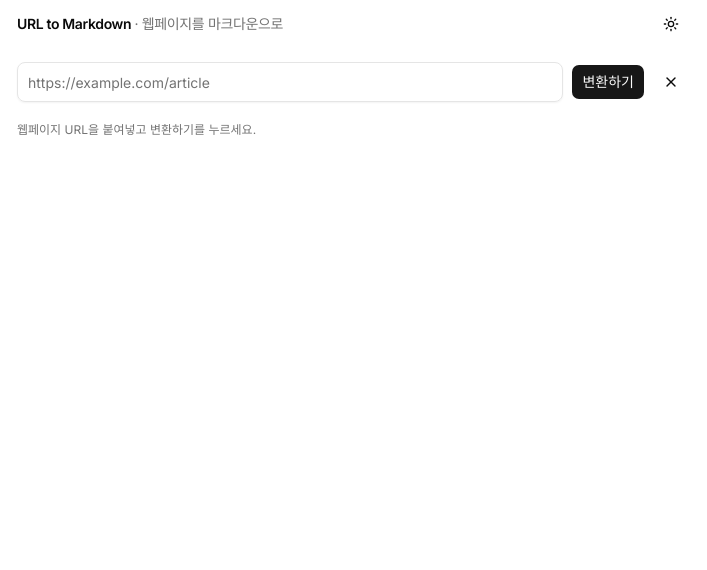
Test: URL을 변환하면 제목과 본문이 표시된다
In the field named "웹페이지 URL": (290, 82) [17, 62, 564, 102], type "https://buildnote.dev/2024/rethinking-our-cache-strategy"
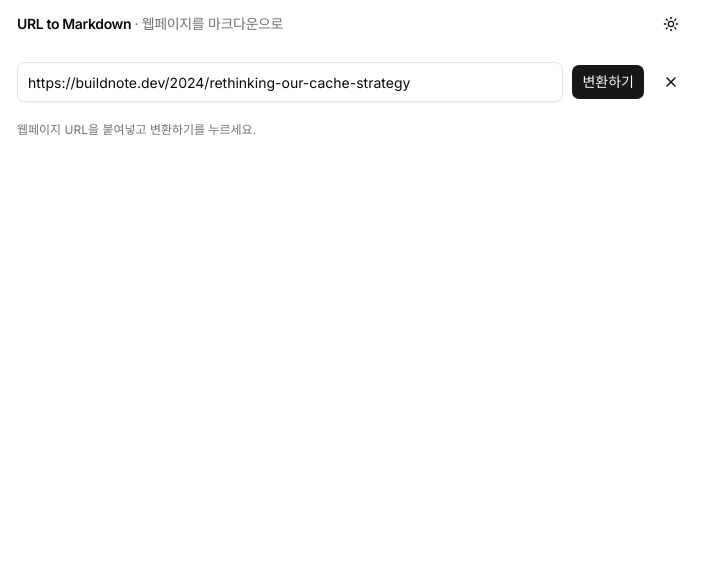
Click the button "변환하기": (608, 82) [572, 64, 645, 100]
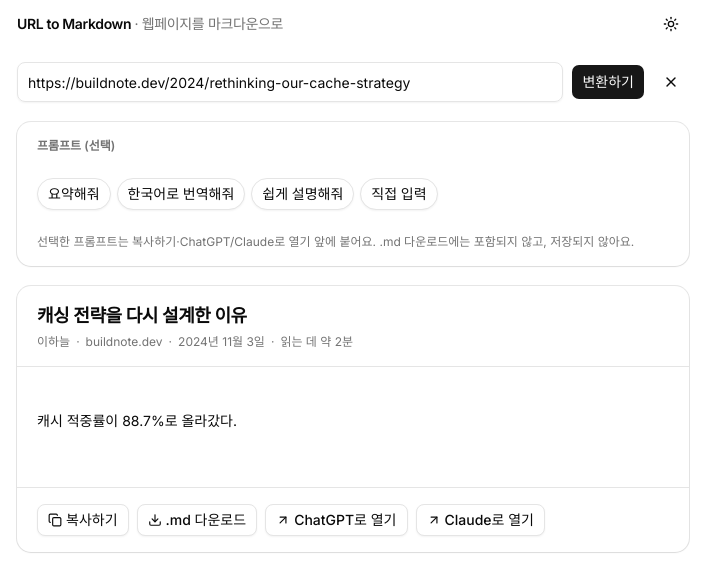
Result: the heading "캐싱 전략을 다시 설계한 이유" is shown at [37, 305, 247, 326]
Result: the text "이하늘" is shown at [37, 334, 70, 350]
